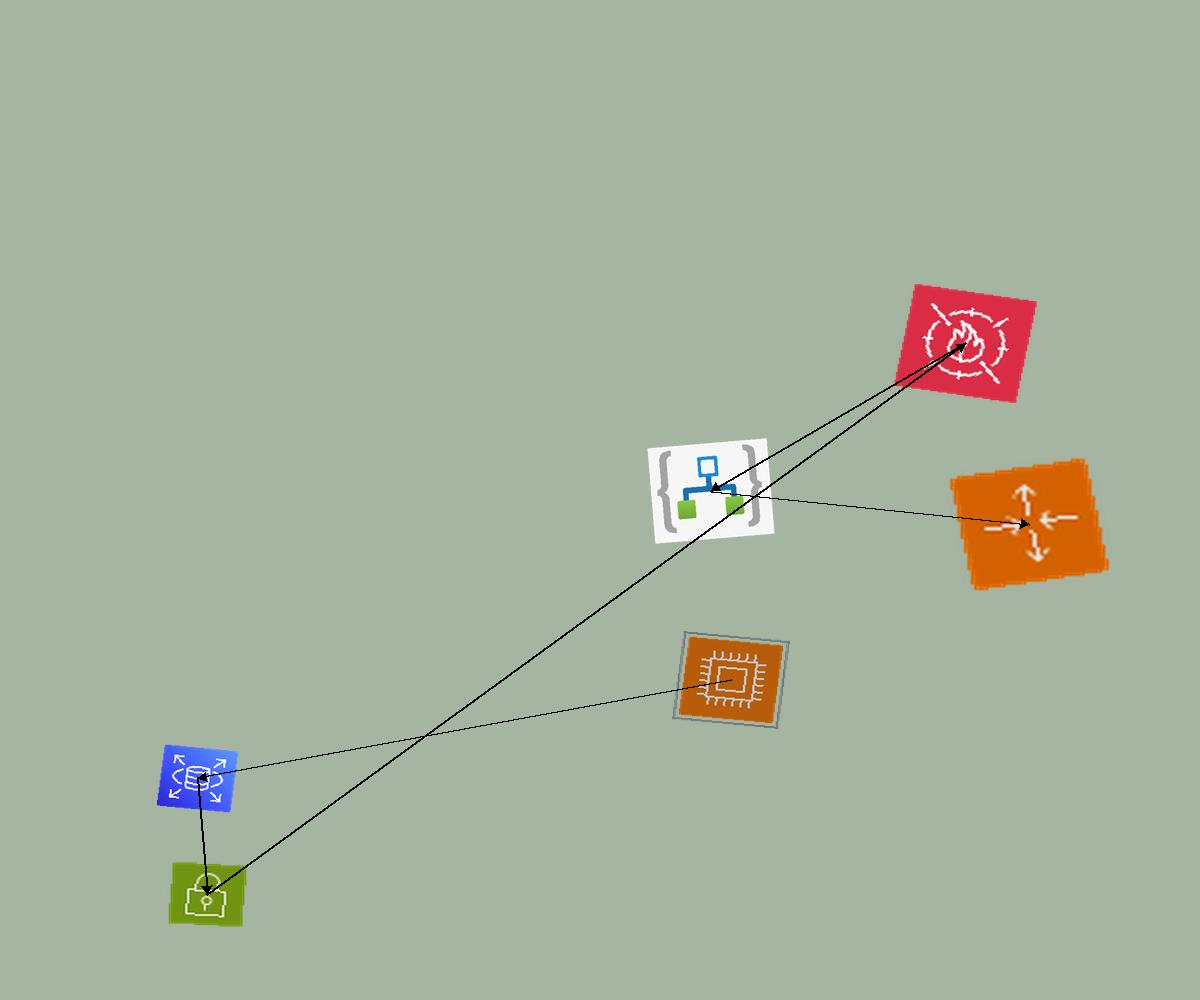AWS-Category_Compute: (672, 631, 790, 729)
AWS-Public-subnet: (167, 861, 248, 928)
AWS-RDS: (156, 744, 239, 813)
AWS-Scaling-group: (947, 456, 1112, 593)
AWS-WAF: (893, 283, 1038, 404)
Azure_integration-204-Logic-Apps: (647, 438, 775, 544)
